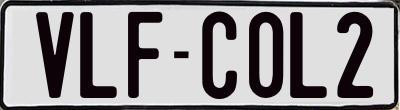0: (247, 9, 286, 96)
2: (336, 12, 377, 99)
C: (202, 8, 237, 102)
F: (126, 10, 160, 97)
L: (77, 11, 120, 99), (288, 11, 326, 102)
V: (35, 10, 73, 102)
